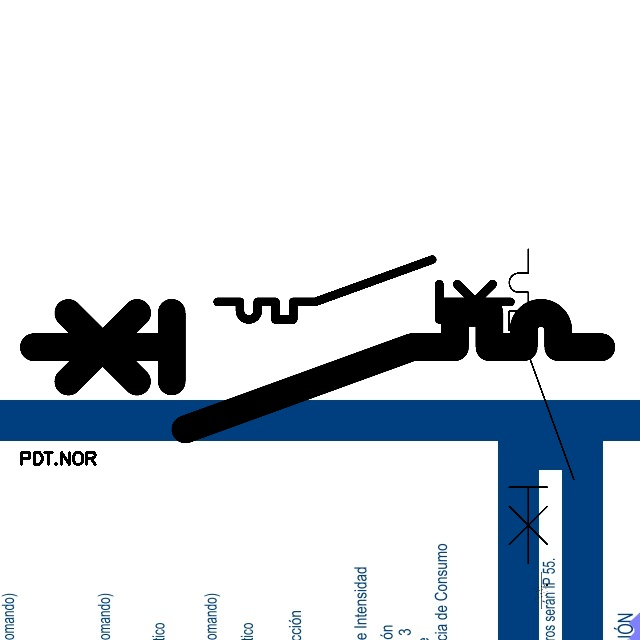interruptor_termomagnetico: (19, 298, 616, 444), (501, 241, 582, 572), (210, 252, 518, 327)
